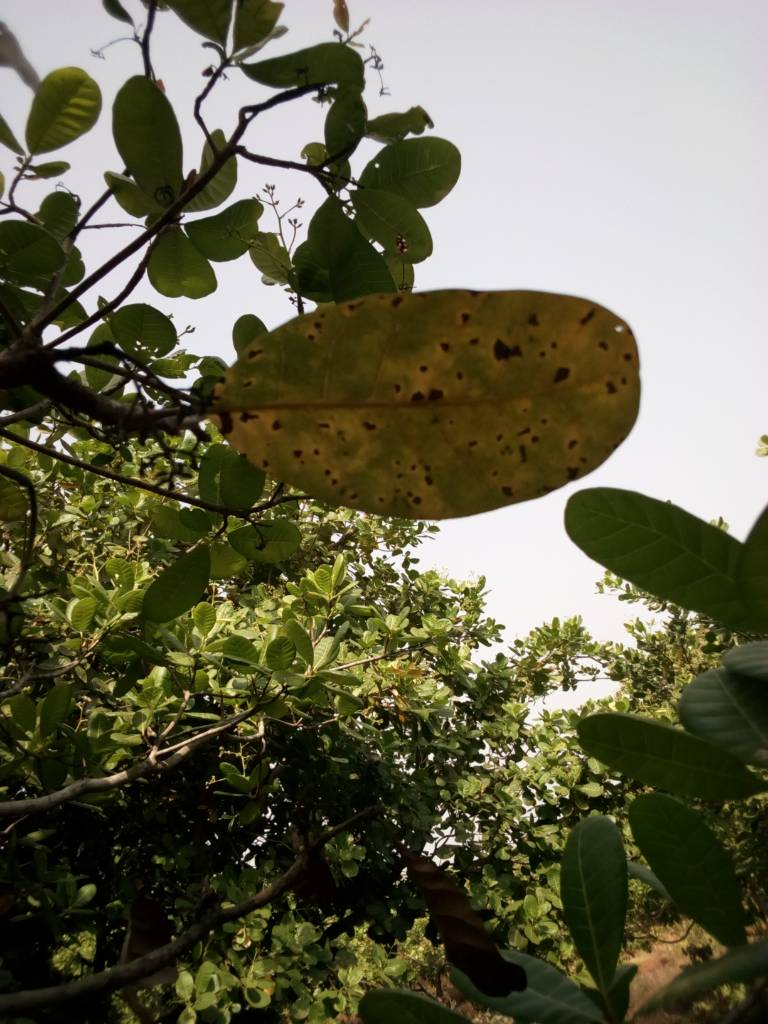Pestalotiose: (219, 291, 633, 514)
